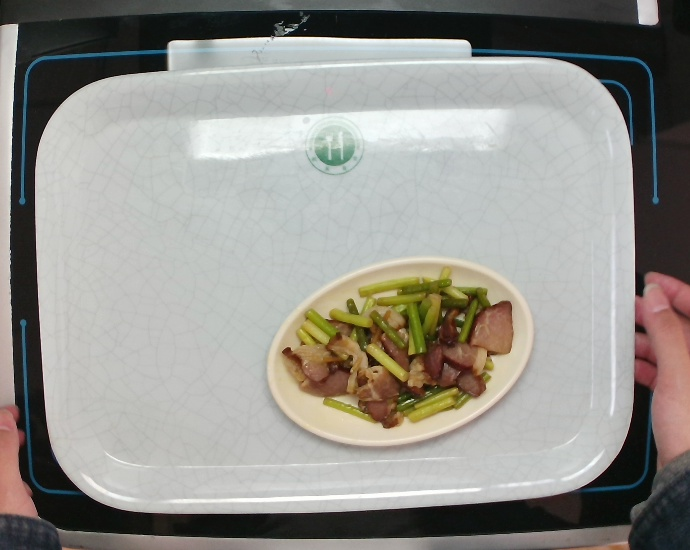JYsf-Tuo_Yuan_Wan: (261, 252, 537, 450)
